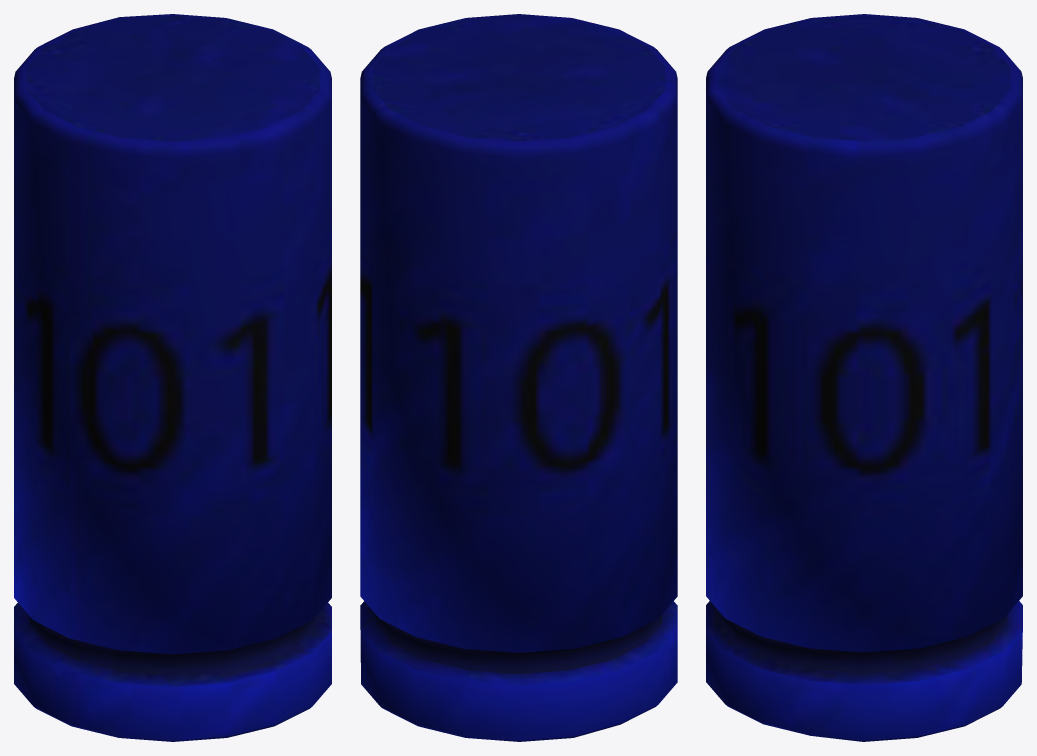
File: CapacitorMedium01.FBX
The picture shows the model from 3 angles, left to right: view 1: azimuth 30°, elevation 25°; view 2: azimuth 150°, elevation 25°; view 3: azimuth 270°, elevation 25°; orthographic projection.
Visible parts, largest first — view 1: Cylinder001; view 2: Cylinder001; view 3: Cylinder001.
Boxes of the visible parts, box(x1,y1,x2,y2) form: Cylinder001: box(14, 14, 331, 741); Cylinder001: box(360, 14, 677, 741); Cylinder001: box(706, 14, 1022, 741).
Bounding box in the file's own units: 18.55 × 39.33 × 18.27.
1 material, 1 textured.
